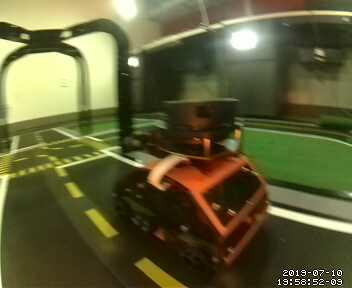pheeno: (109, 95, 272, 272)
